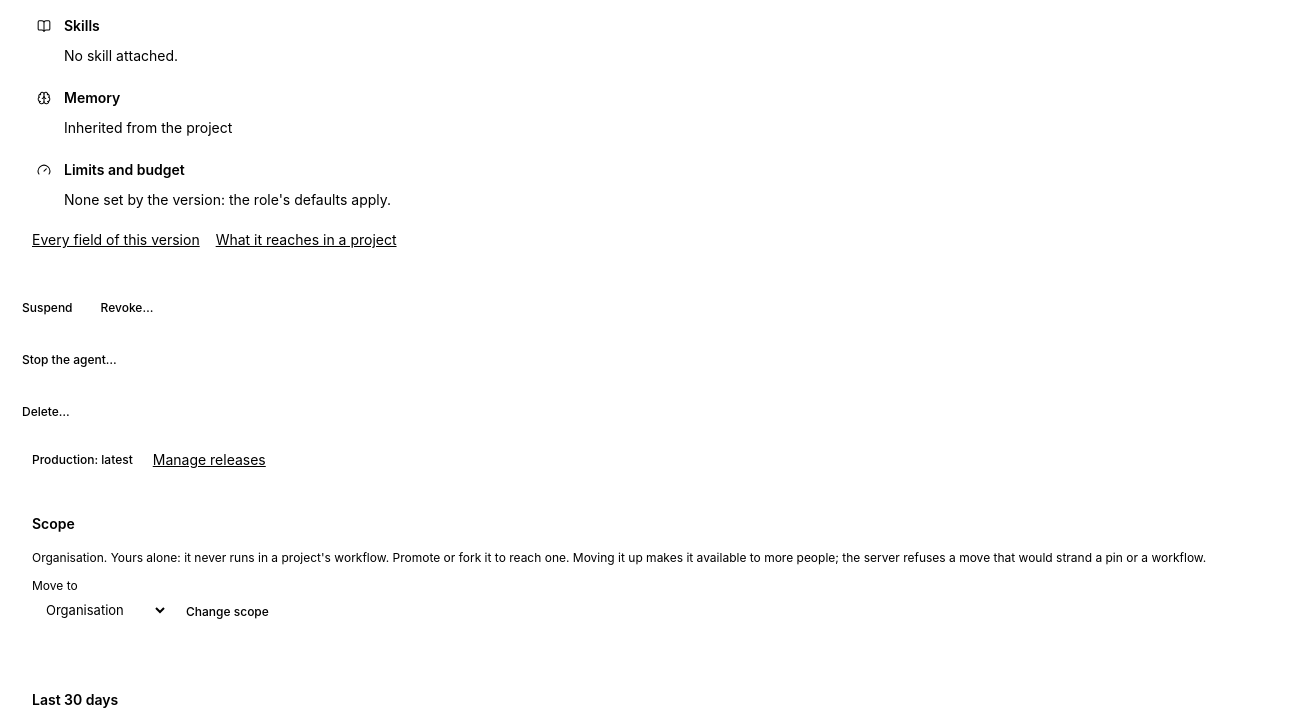
Scenario: an agent's Stop › shows the server's message when the stop is refused
The image size is (1292, 719).
(page scrolled)
Step 1. Click the button "Stop the agent…" → (69, 360), box [12,346,127,374]
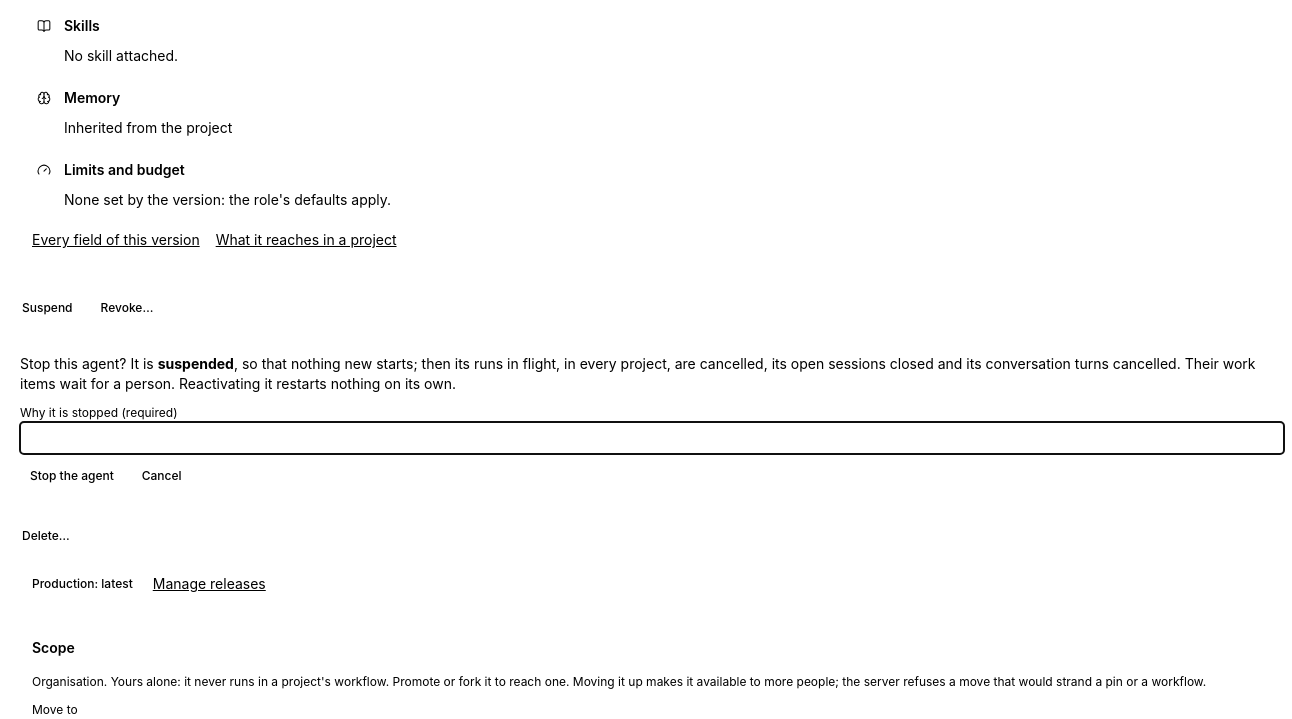
Expected: the button "Stop the agent" is disabled, [20,462,124,490]
Step 2. Type "too expensive" into the field → (652, 438), box [20,422,1284,454]
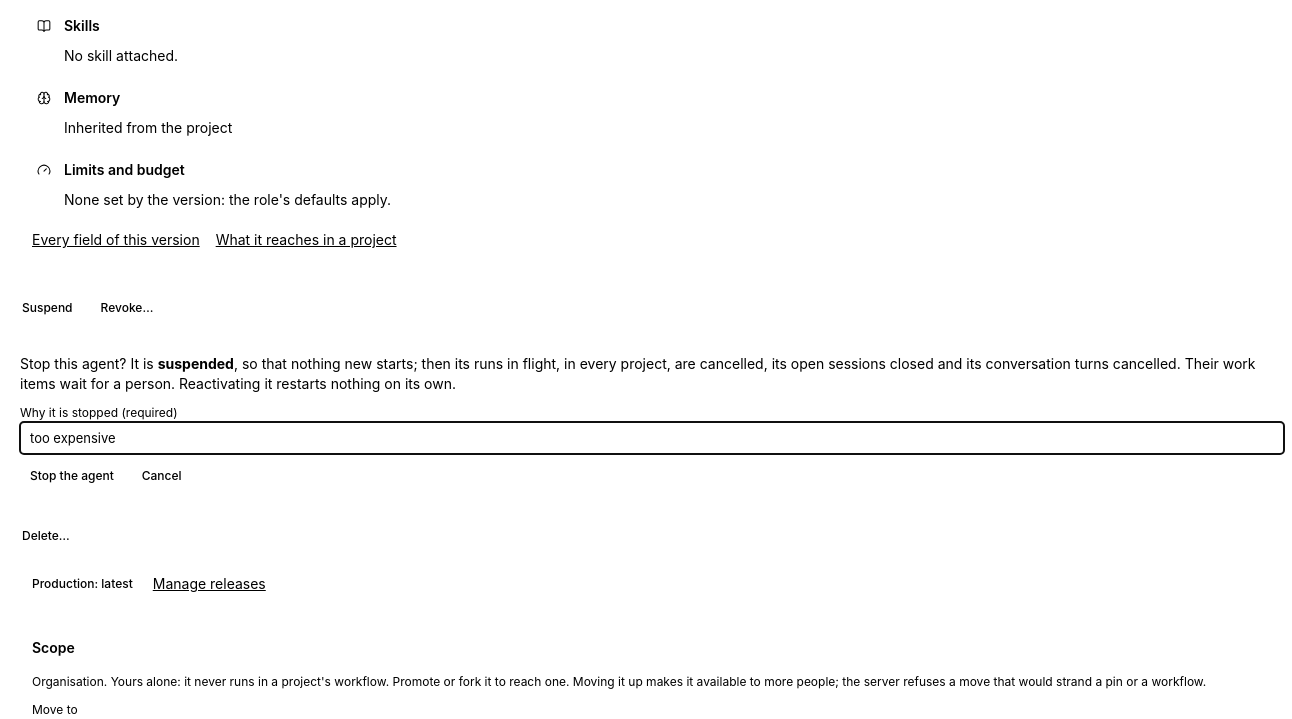
Step 3. Click the button "Stop the agent" → (72, 476), box [20,462,124,490]
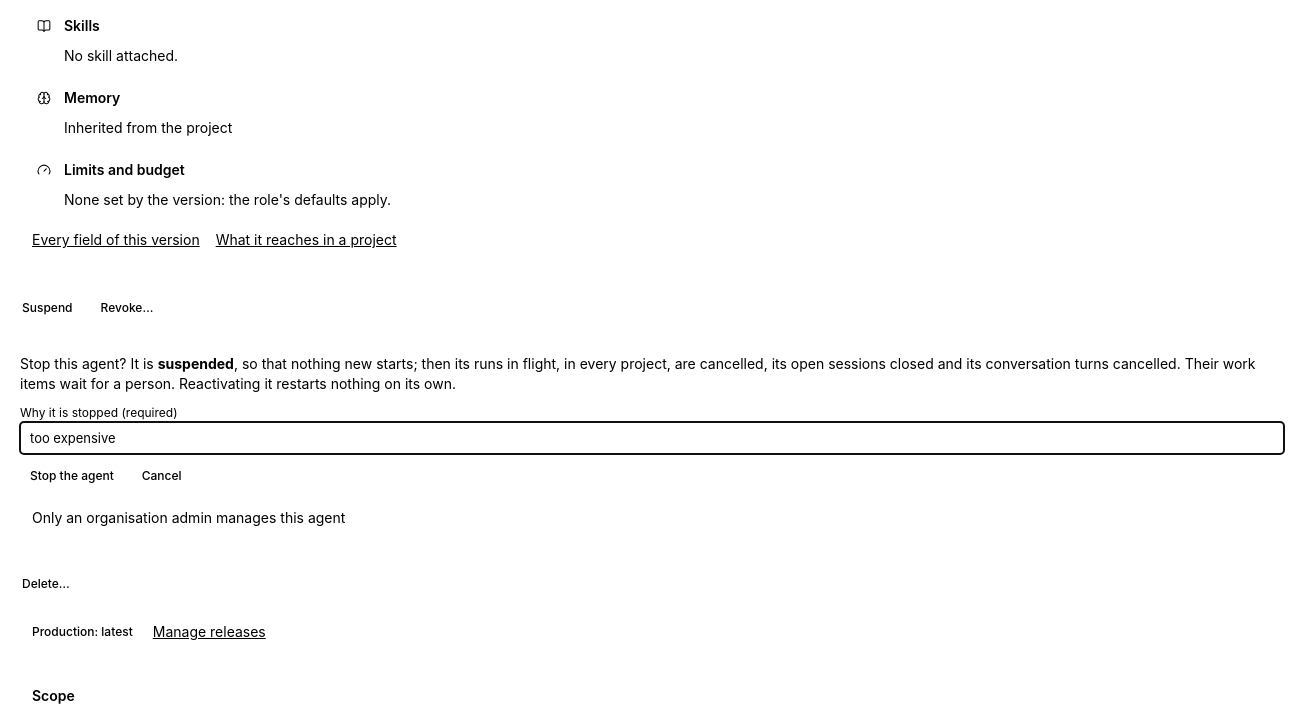
Expected: the message reads "Only an organisation admin manages this agent", [32,509,345,526]
